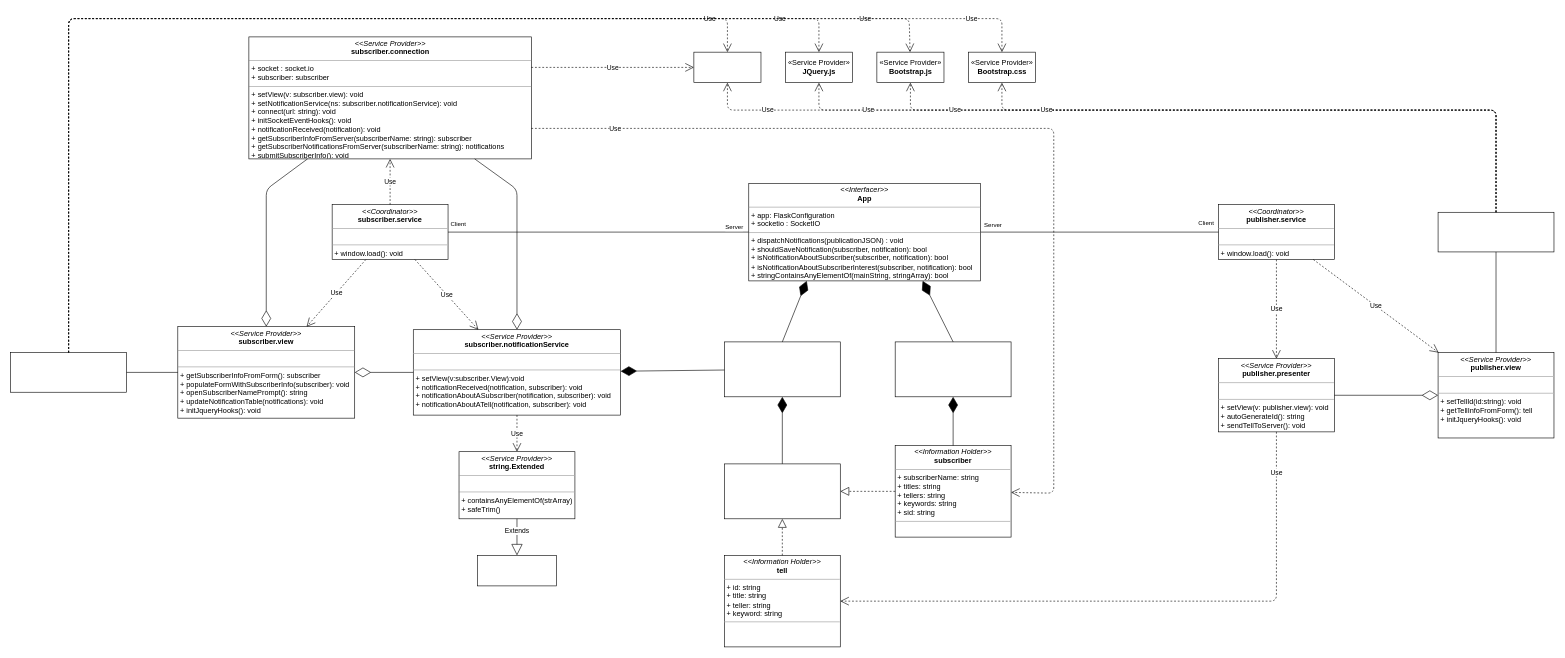
This 1565x658 diagram has some shape labels left out. The shapes that lost their labels are listed below. From the top down, each one's box as (x1, y1, x2, y2) in pixels, then its label:
(693, 52, 761, 83): «Service Provider» Socket.IO
(1437, 212, 1554, 252): <<HTML>> publish.html + publicationRequest: Form
(10, 352, 127, 392): <<HTML>> index.html + subscriptionRequest: Form
(724, 341, 840, 397): <<Collection>> notifications + REST-API: GET, POST
(895, 341, 1011, 397): <<Collection>> subscribers + REST-API: GET, POST
(724, 463, 840, 519): <<Interfacer>> notification
(477, 555, 557, 586): «Information Holder» String
